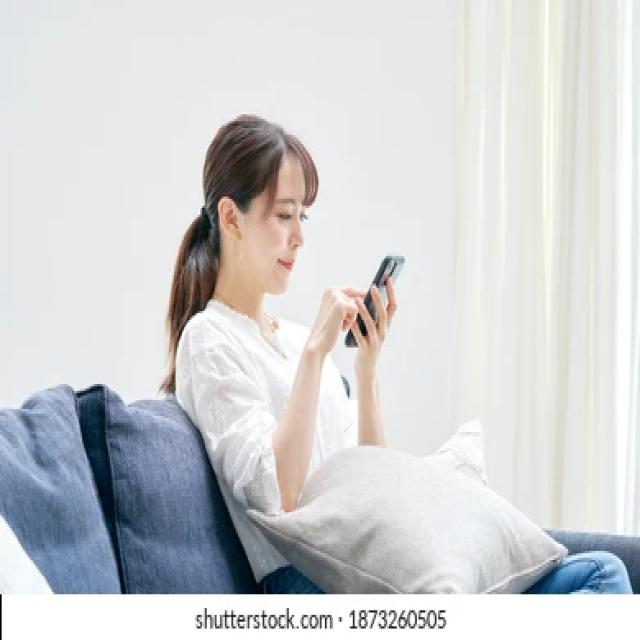smartphone-person: (154, 100, 413, 513)
